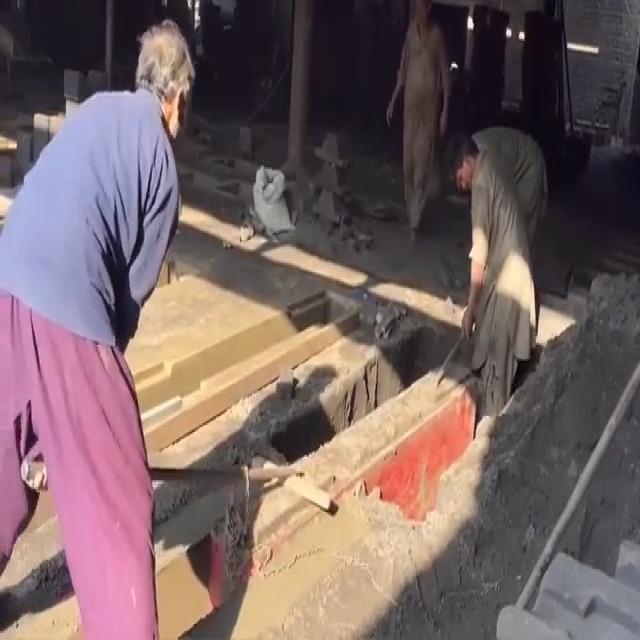dress: (0, 89, 177, 638)
